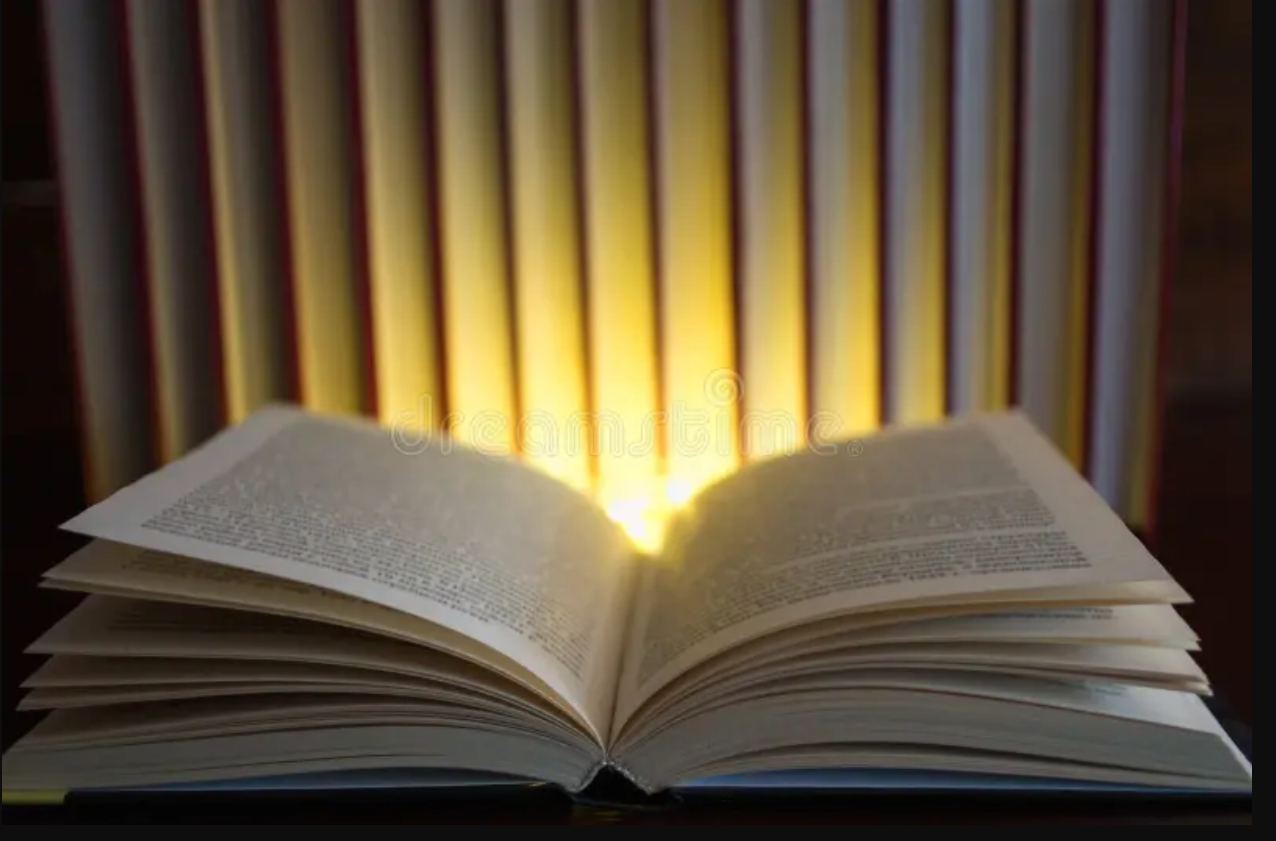book: (22, 407, 1260, 814)
